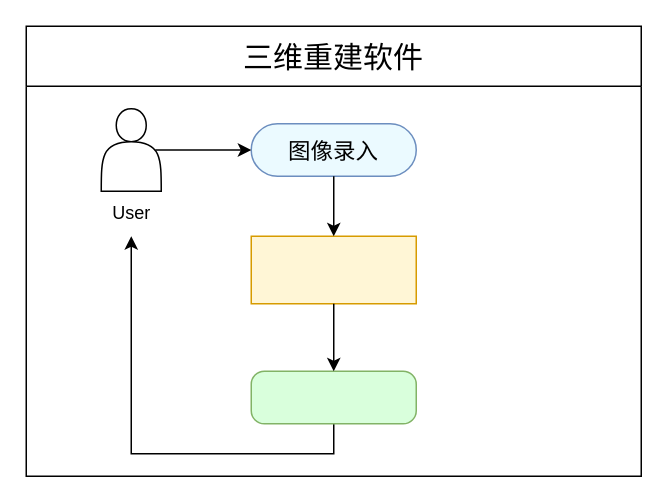
Some shapes in this 668 by 503 pixel diagram are drawn without their labels. Here are the shapes that lost their labels. From the top down, the centre of each, then its label:
[333,269]: 三维重建
[333,397]: 结果可视化
